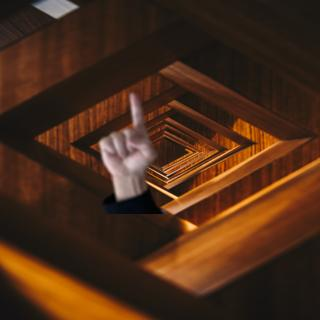IRRITATED: (94, 90, 159, 176)
